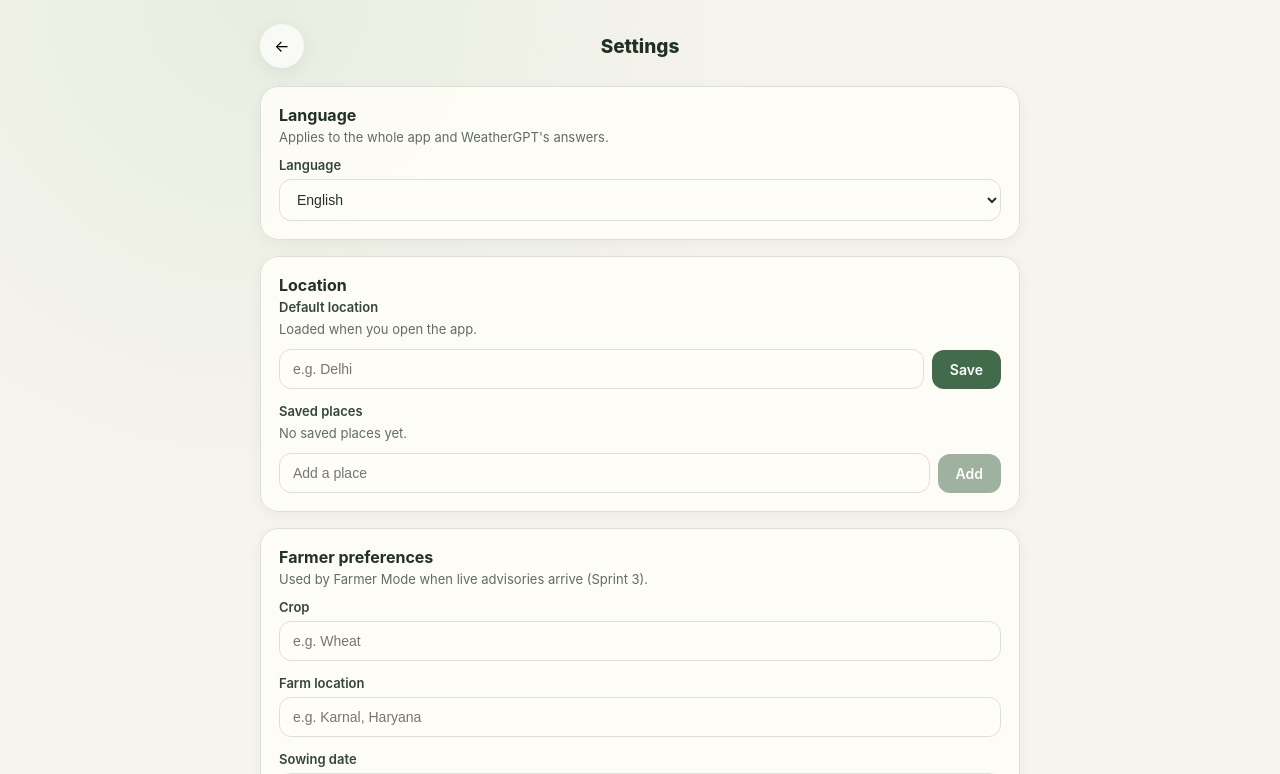
Test case: saves a default location and lists it under saved places
Type "Jaipur" into the field named "Default location".
click(601, 369); type("Jaipur")  # box [279, 349, 924, 389]
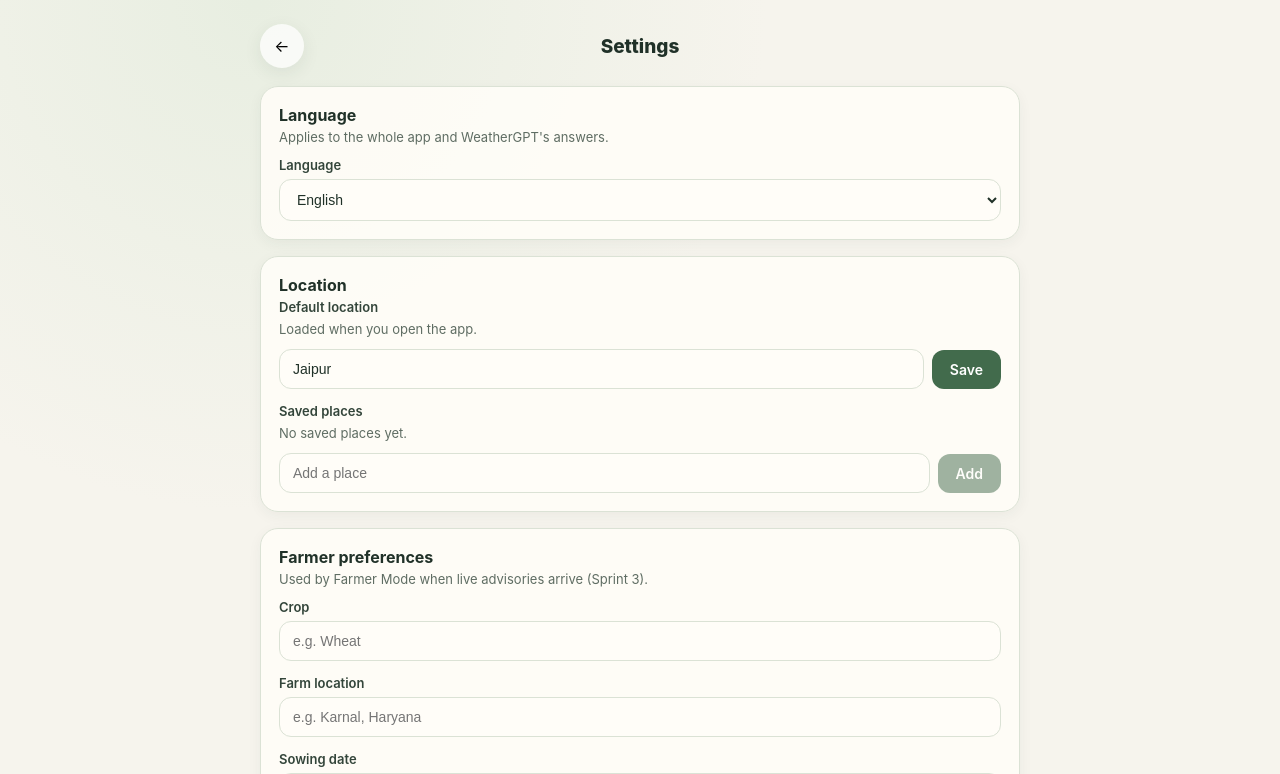
Click the button "Save".
click(966, 369)  # box [932, 350, 1001, 388]
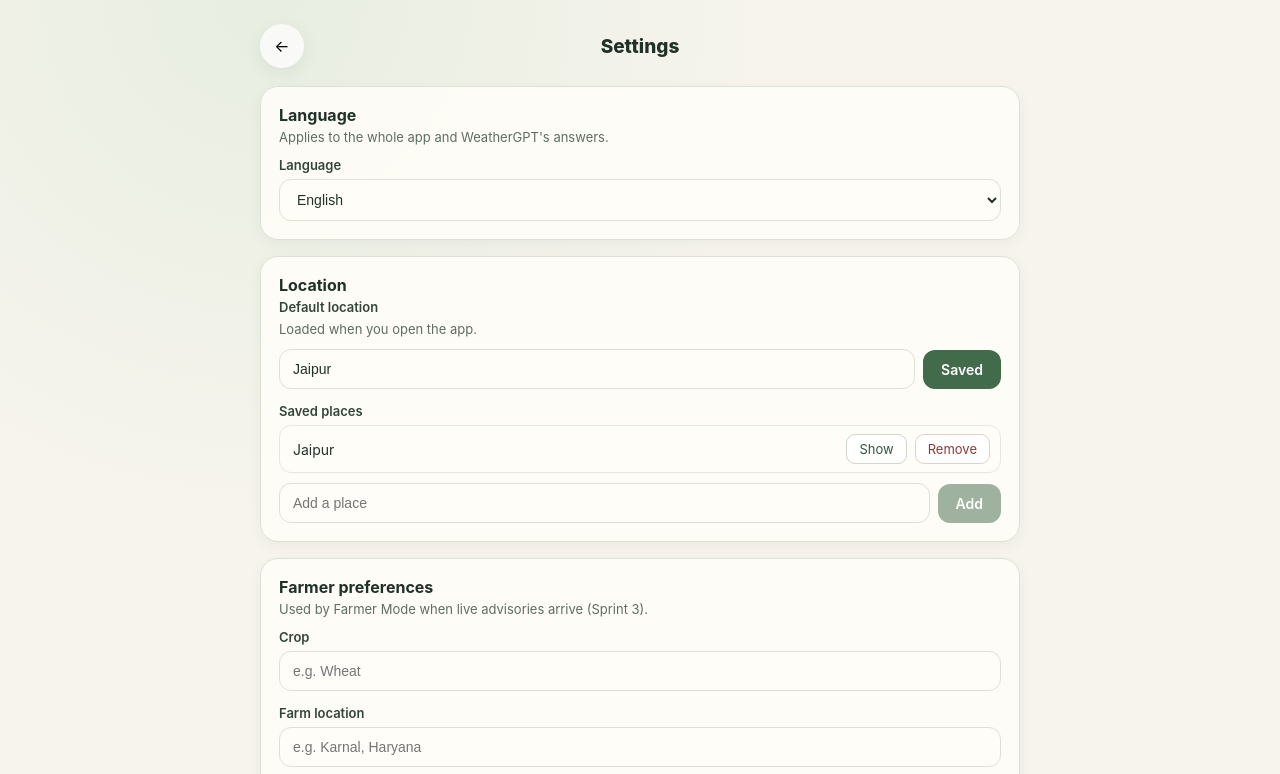
Now the text "Jaipur" is shown, box [293, 440, 334, 458]
Now the button with aria-label "Remove Jaipur" is shown, box [915, 434, 990, 464]
